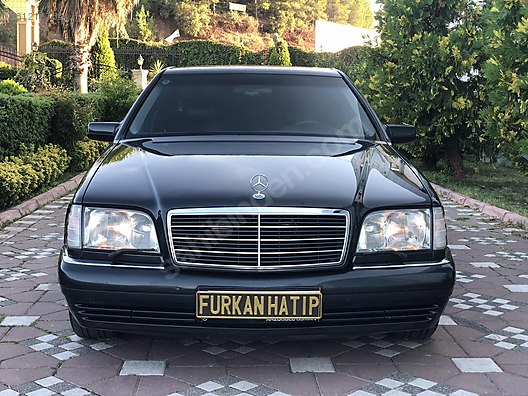mercedes: (55, 61, 460, 354)
